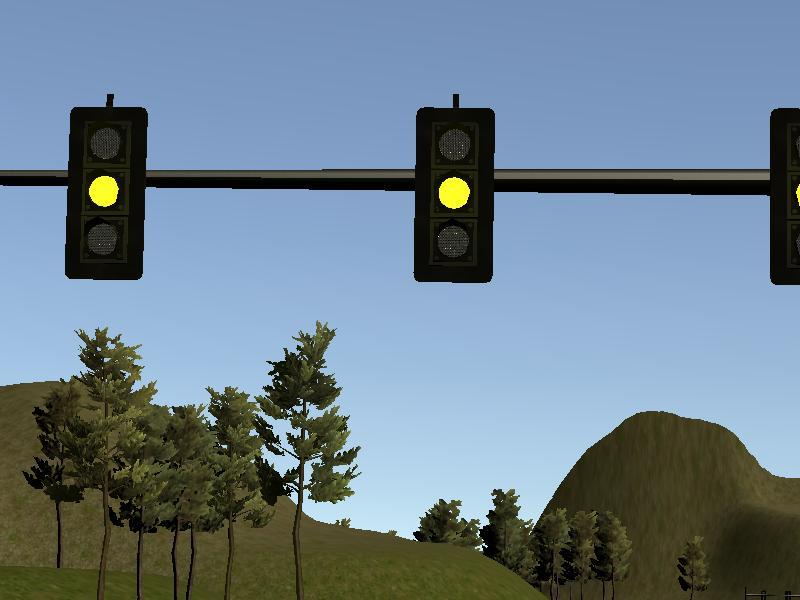Yellow: (64, 106, 149, 281), (414, 106, 495, 283), (769, 107, 800, 285)
